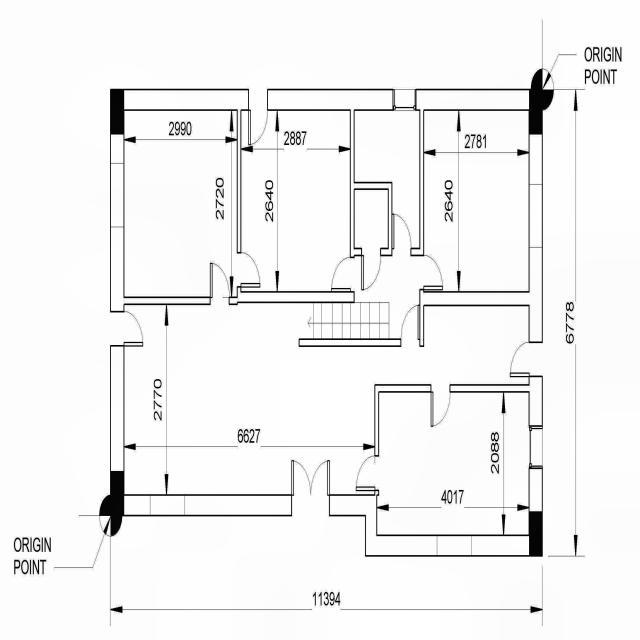Column: (110, 89, 124, 134), (110, 471, 124, 516), (528, 89, 542, 134), (528, 512, 542, 556)
Door: (508, 340, 544, 380), (109, 310, 144, 348), (399, 302, 421, 348), (236, 250, 261, 290), (330, 254, 355, 294), (209, 261, 230, 307), (355, 454, 380, 492), (430, 383, 451, 428), (361, 246, 382, 291), (422, 253, 444, 294), (247, 107, 269, 146), (390, 212, 412, 250)
Double-Door: (290, 458, 330, 498)
Staircase: (307, 303, 389, 339)
Window: (528, 423, 544, 471), (392, 87, 418, 113)
